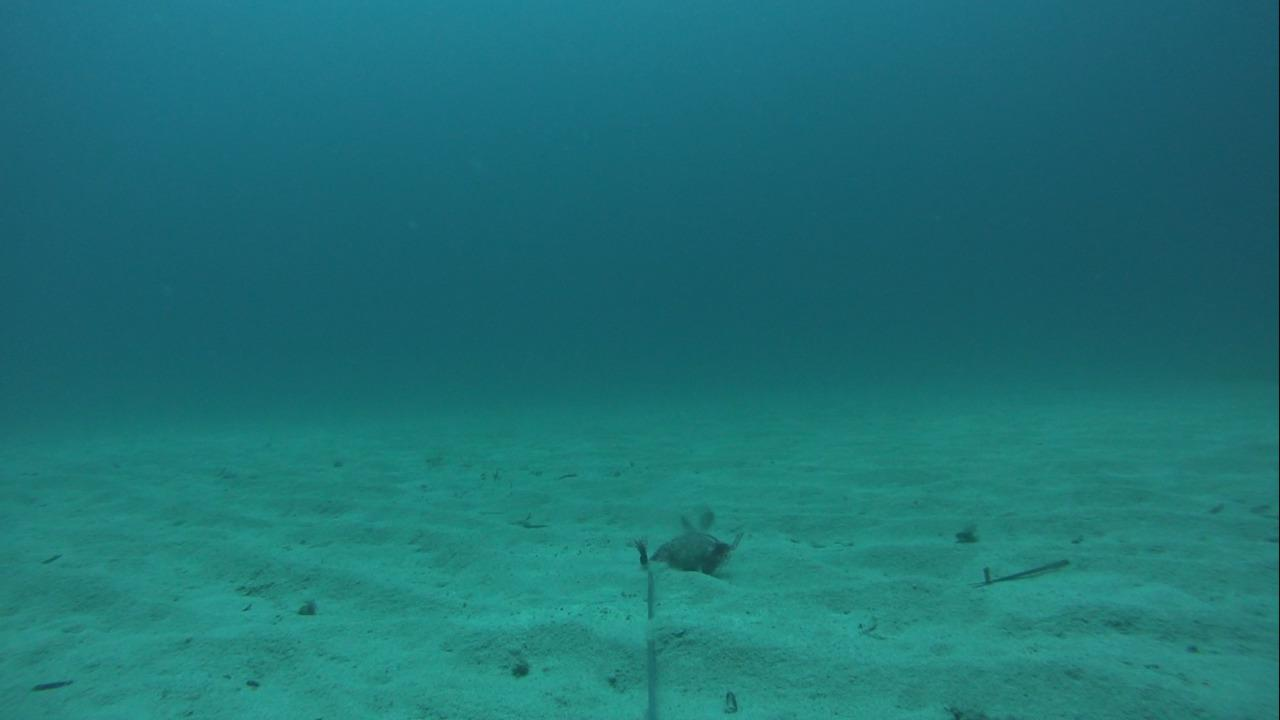raor: (676, 497, 725, 533)
